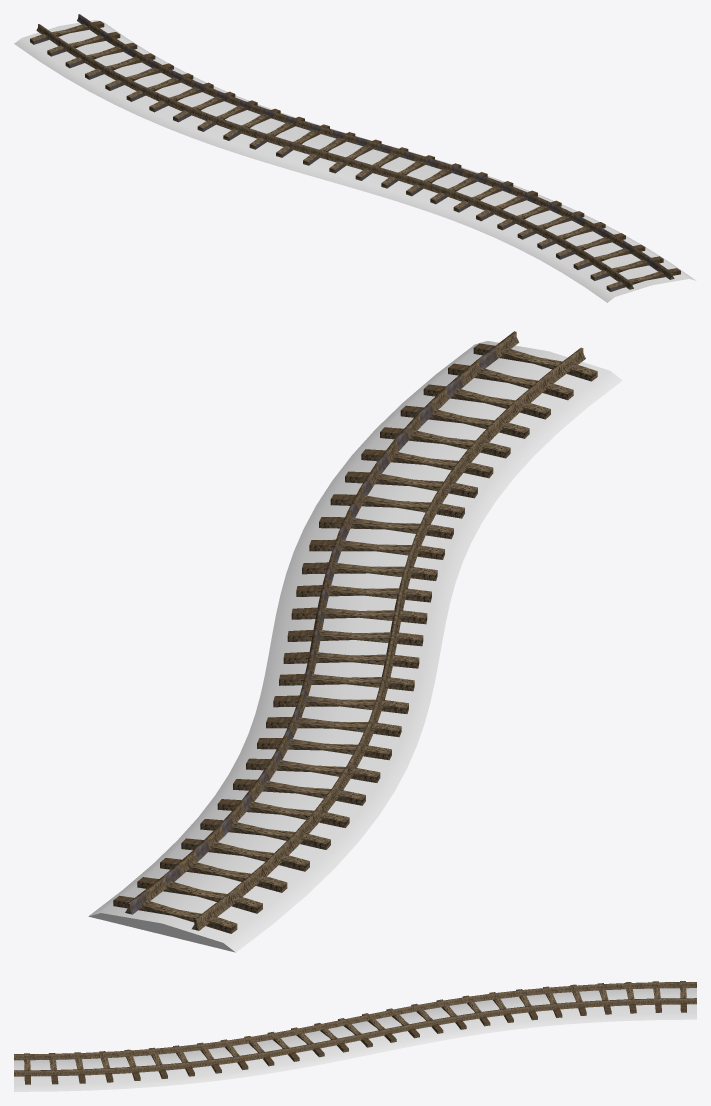
File: AlternateTrack_Left_1_LOD1.fbx
3 views of the same model, one above another, from view 1: azimuth 30°, elevation 25°; view 2: azimuth 150°, elevation 25°; view 3: azimuth 270°, elevation 25° (orthographic). The views are drawn at different scales.
Visible parts, largest first — view 1: AlternateTrack_Left_1_LOD1; view 2: AlternateTrack_Left_1_LOD1; view 3: AlternateTrack_Left_1_LOD1.
Boxes of the visible parts, bbox=[...] form: AlternateTrack_Left_1_LOD1: bbox=[14, 14, 696, 302]; AlternateTrack_Left_1_LOD1: bbox=[88, 331, 622, 952]; AlternateTrack_Left_1_LOD1: bbox=[14, 981, 696, 1091].
Bounding box in the file's own units: 3 × 0.1466 × 7.99.
